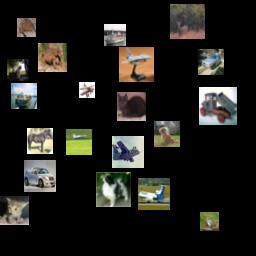airplane: (119, 47, 154, 82), (138, 178, 170, 210), (112, 136, 144, 168), (66, 129, 92, 155), (79, 82, 95, 98)
automobile: (24, 160, 56, 192), (198, 49, 224, 75)
bird: (200, 212, 219, 231)
cat: (117, 92, 146, 121), (0, 196, 29, 225), (7, 59, 29, 81)
deer: (170, 4, 205, 39)
dog: (96, 172, 131, 207), (154, 121, 180, 147)
frog: (38, 43, 67, 72), (17, 18, 36, 37)
ship: (11, 83, 37, 109), (104, 24, 126, 46)
truck: (199, 87, 237, 125)
